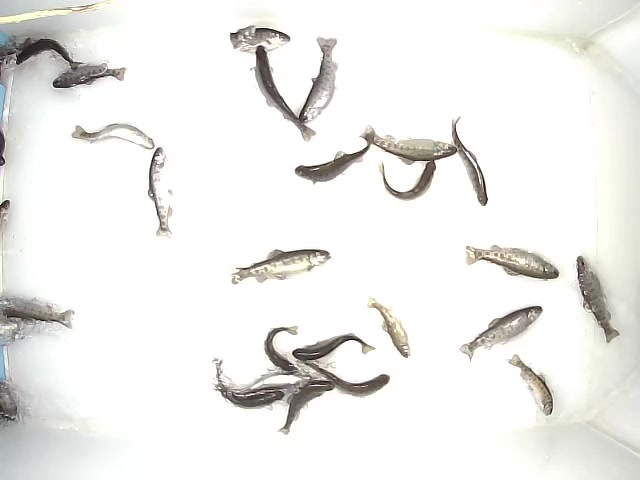fish: (248, 44, 318, 143), (457, 303, 547, 360), (231, 245, 332, 289), (360, 120, 458, 165), (294, 130, 374, 185), (573, 253, 620, 342), (463, 240, 560, 283), (298, 34, 342, 125), (300, 356, 391, 398), (450, 114, 489, 209), (208, 355, 282, 404), (507, 351, 556, 419), (144, 145, 178, 238), (279, 381, 336, 436), (367, 294, 413, 360), (377, 160, 439, 204), (67, 121, 156, 151), (51, 61, 127, 90), (228, 23, 290, 53), (263, 323, 300, 373)
